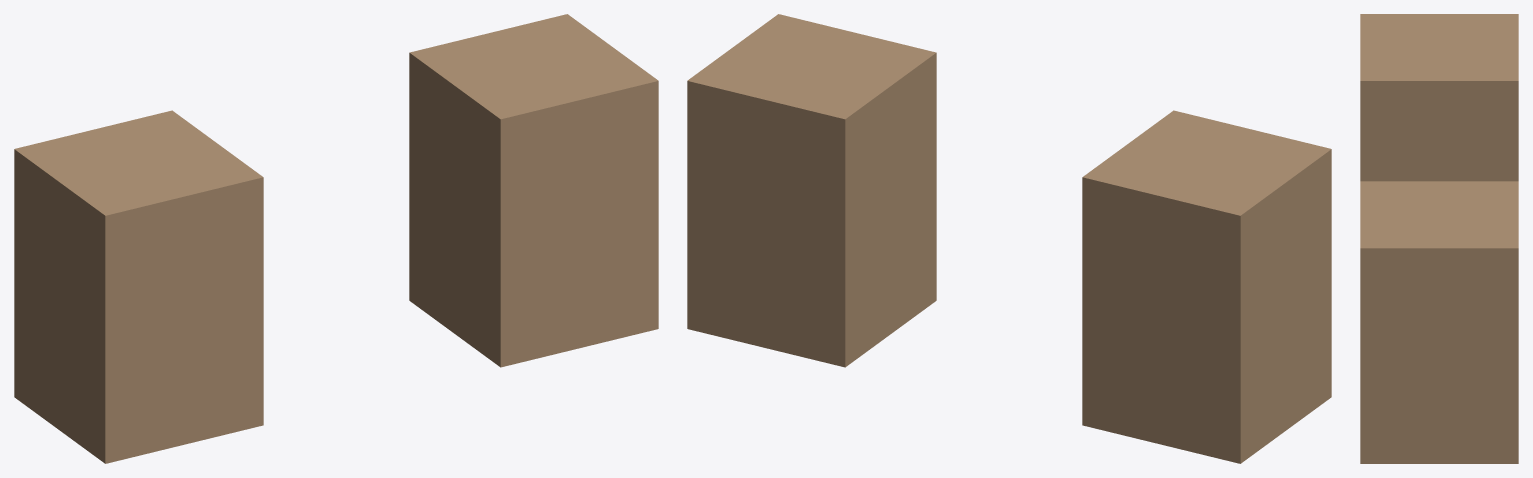
File: work_gloves.glb
3 views of the same model, side by side, from view 1: azimuth 30°, elevation 25°; view 2: azimuth 150°, elevation 25°; view 3: azimuth 270°, elevation 25° (orthographic). The views are drawn at different scales.
Parts seen in each view (by area): view 1: glove_l, glove_r; view 2: glove_l, glove_r; view 3: glove_r, glove_l.
Part boxes in pixels (<box>): glove_l: <box>14,110,263,463</box>; glove_r: <box>409,14,658,367</box>; glove_l: <box>1082,110,1331,463</box>; glove_r: <box>687,14,936,367</box>; glove_r: <box>1360,181,1518,463</box>; glove_l: <box>1360,14,1518,181</box>.
Size of the model in its own units: 0.56 by 0.24 by 0.16.
